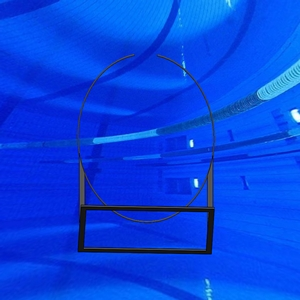circle: (76, 52, 217, 256)
